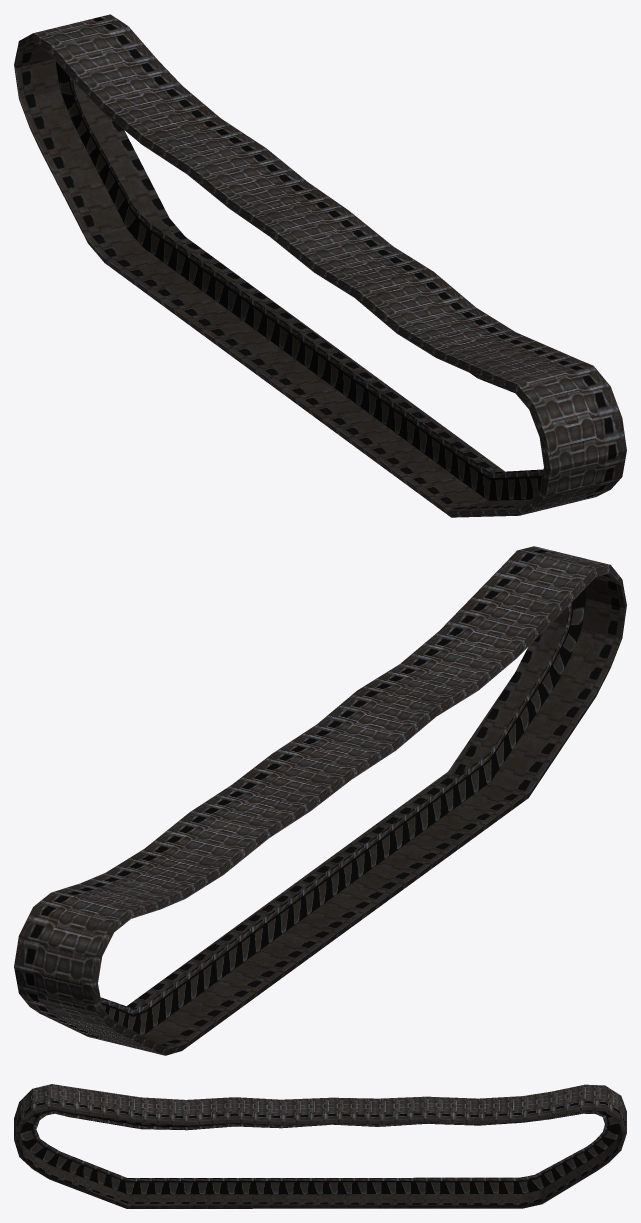
Rendered from T43_Track.gltf.
3 renders of one model, top to bottom at view 1: azimuth 30°, elevation 25°; view 2: azimuth 150°, elevation 25°; view 3: azimuth 270°, elevation 25°, orthographic. The views are drawn at different scales.
Visible parts, largest first — view 1: Object_2; view 2: Object_2; view 3: Object_2.
Part boxes in pixels (x1,y1,x2,y2): Object_2: (14,14,626,517); Object_2: (14,546,626,1055); Object_2: (14,1084,626,1208).
Size of the model in its own units: 0.4966 by 1.04 by 5.57.
1 material, 1 textured.
